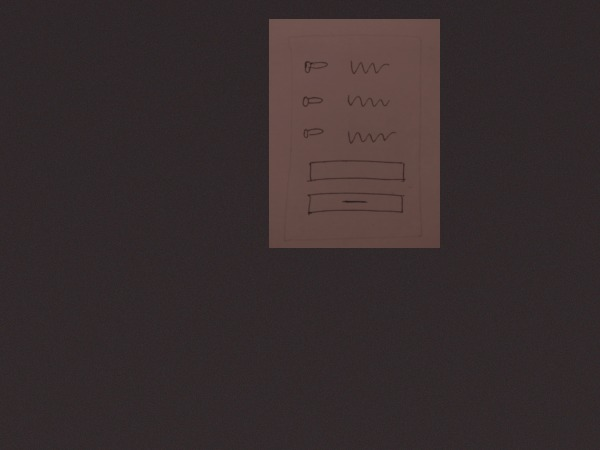button: (304, 189, 407, 218)
switch: (301, 57, 332, 77), (299, 123, 327, 142), (300, 93, 326, 111)
text: (345, 127, 401, 149), (344, 91, 392, 111), (347, 56, 392, 77)
text_input: (305, 158, 410, 186)
